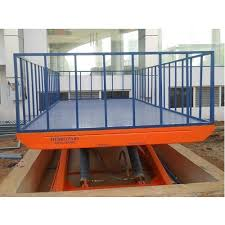Scissor Lift: (12, 45, 217, 194)
